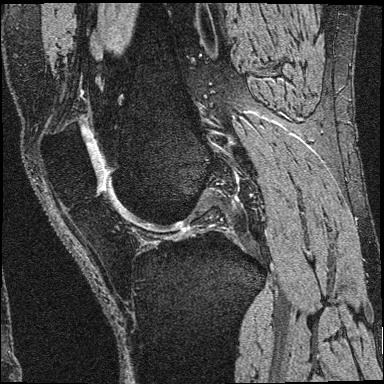SagKneeJointArea: (39, 120, 267, 314)
